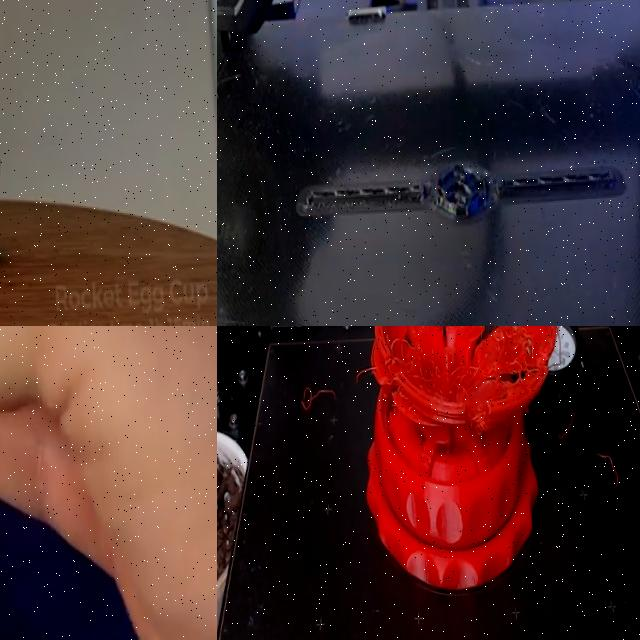spaghetti: (370, 326, 538, 410), (299, 386, 338, 428), (596, 452, 623, 490), (559, 409, 579, 441)
